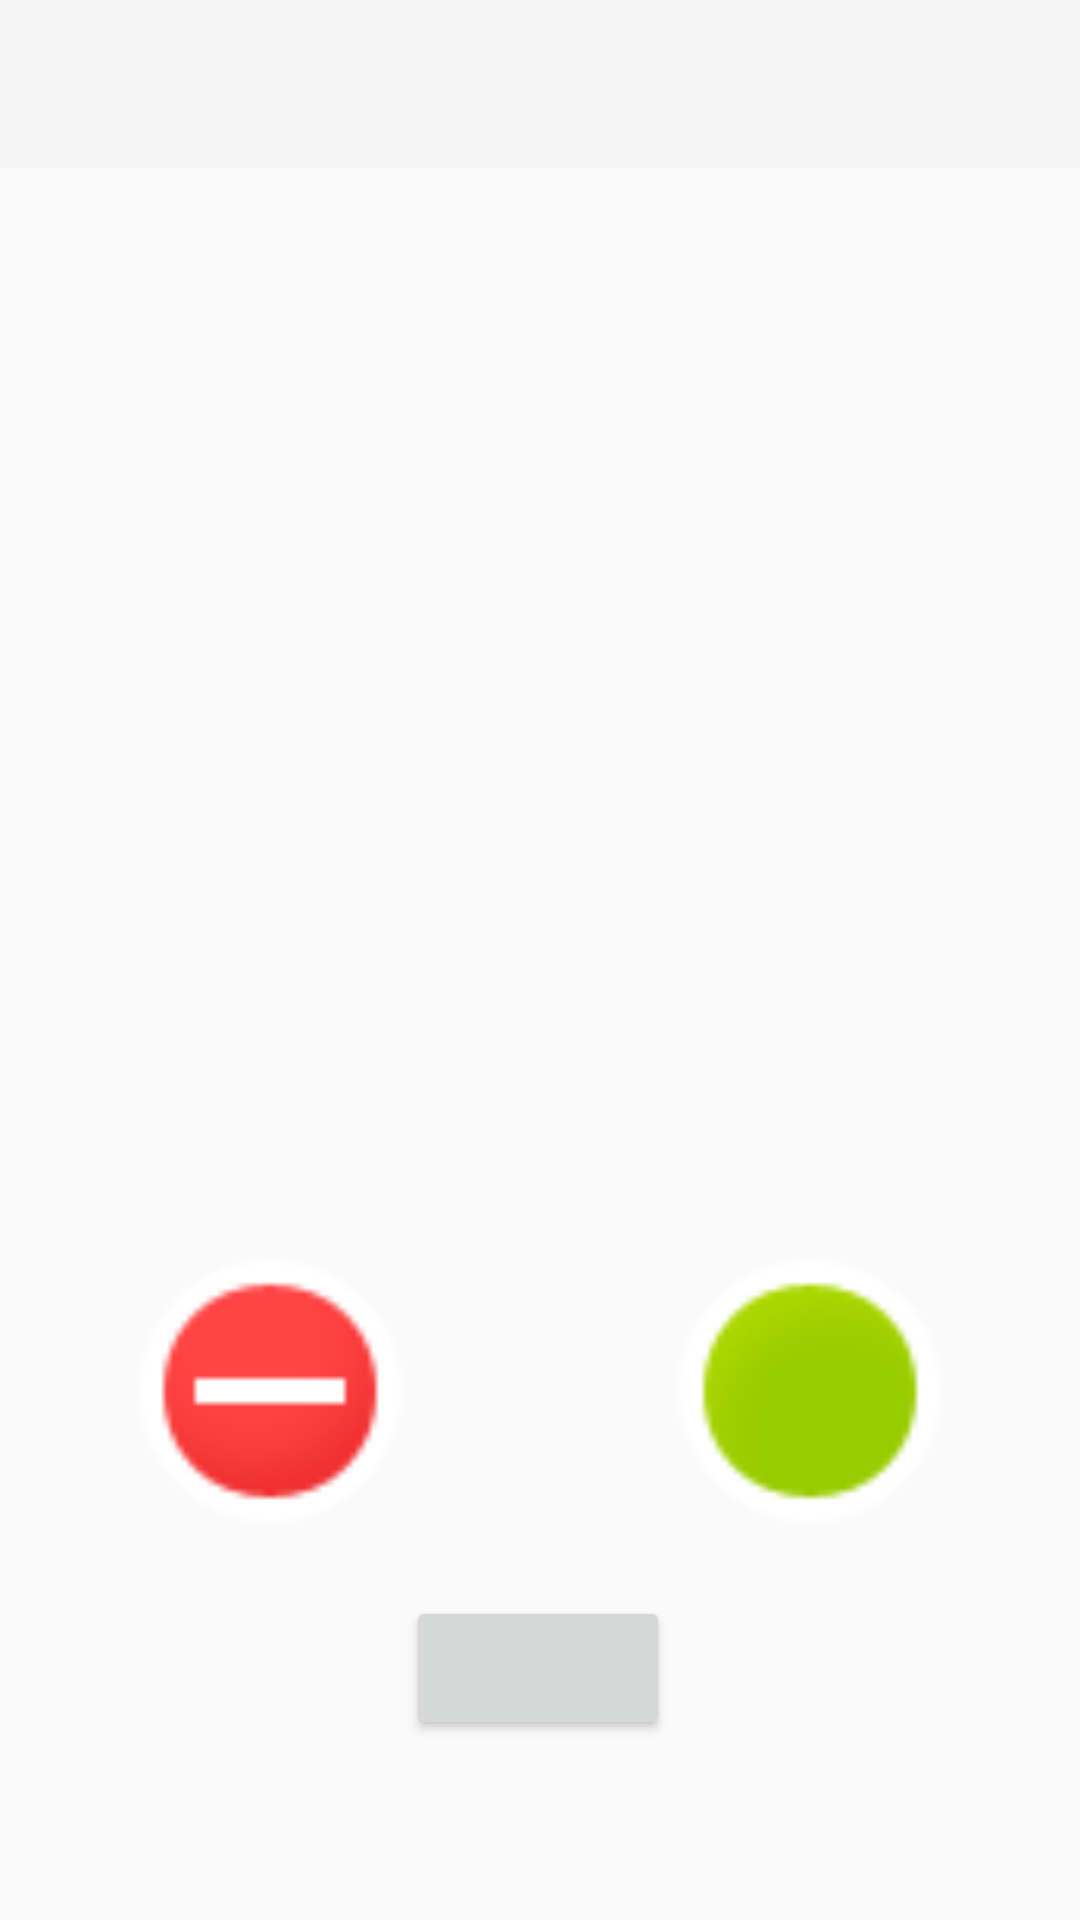

Icons on this 1080*1920 Android screen, each with the point to tap as point (x, y):
less unity: point (270, 1391)
